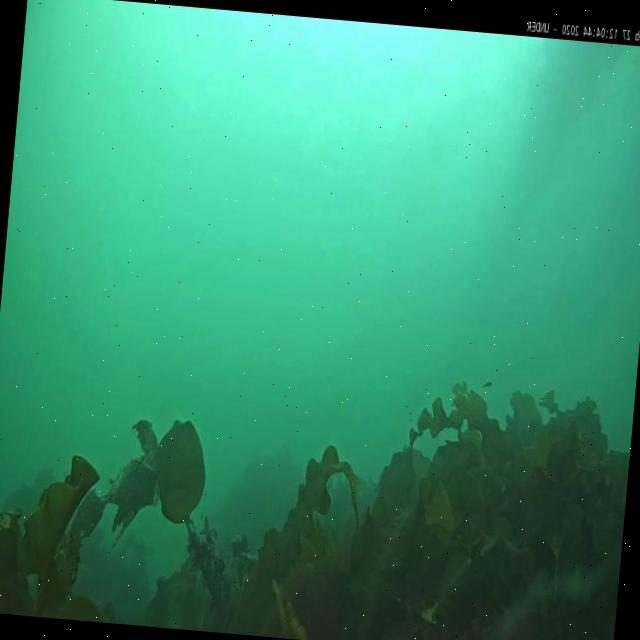fish: (480, 376, 495, 389)
